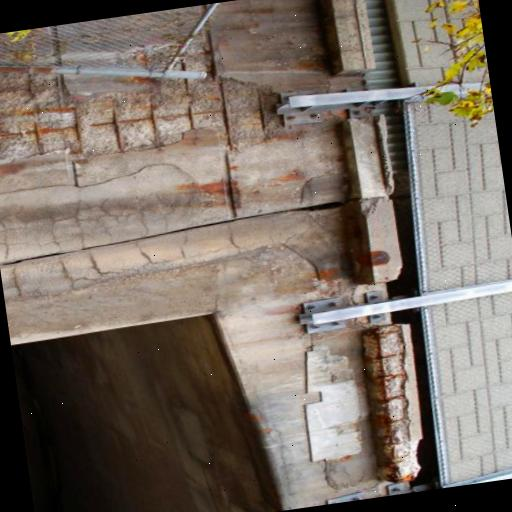spalling: (0, 73, 226, 165), (361, 328, 413, 483)
